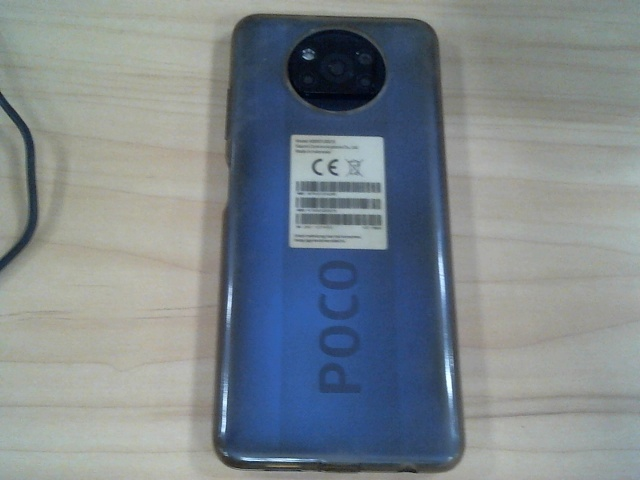handphone: (212, 12, 466, 473)
